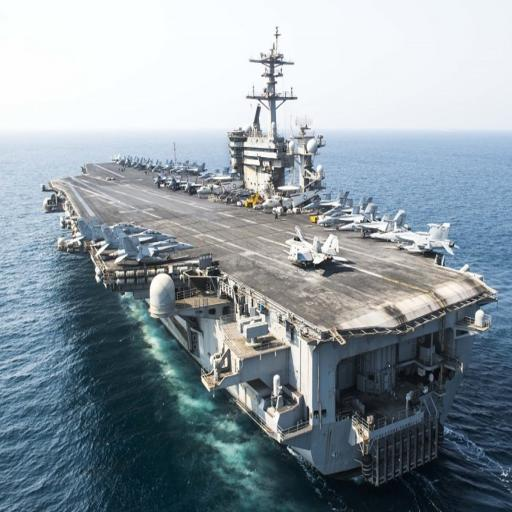Portanaves: (39, 25, 501, 477)
